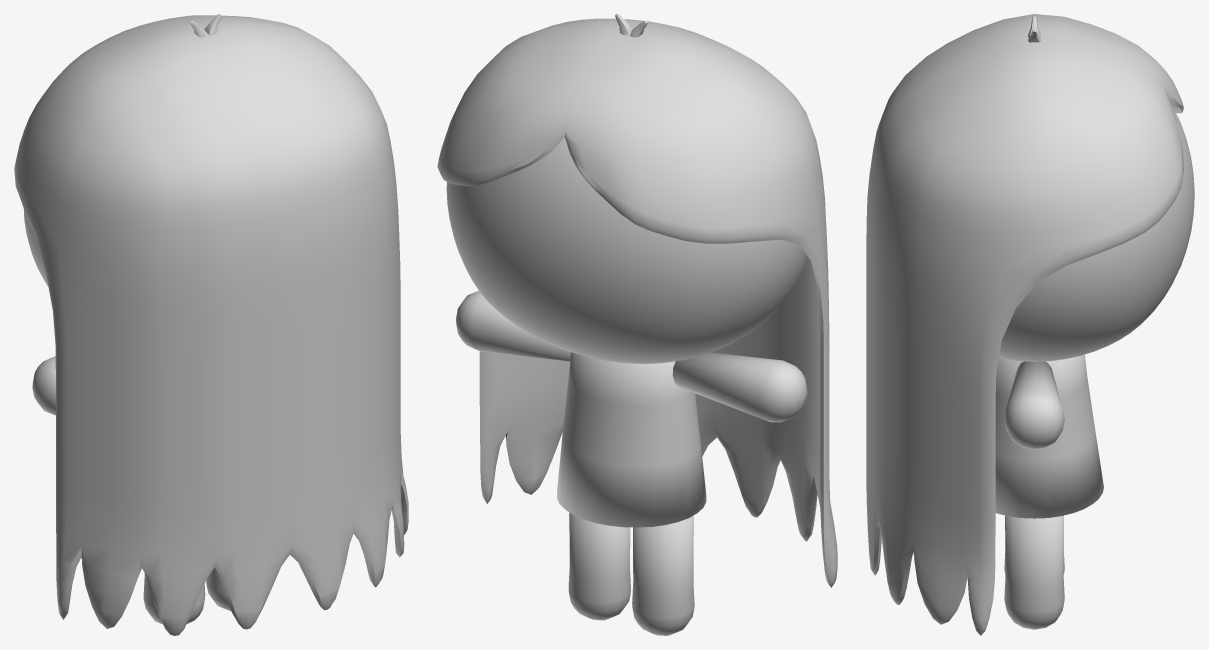
The model's file is Minji.fbx.
The picture shows the model from 3 angles, left to right: view 1: azimuth 30°, elevation 25°; view 2: azimuth 150°, elevation 25°; view 3: azimuth 270°, elevation 25°; orthographic projection. The views are drawn at different scales.
Visible parts, largest first — view 1: MinjiOutlinePelo, MinjiOutilineCuerpo; view 2: MinjiOutlinePelo, MinjiOutilineCuerpo; view 3: MinjiOutlinePelo, MinjiOutilineCuerpo.
Boxes of the visible parts, left/top/right/bottom form: MinjiOutlinePelo: left=14, top=14, right=408, bottom=635; MinjiOutilineCuerpo: left=23, top=208, right=230, bottom=624; MinjiOutlinePelo: left=437, top=14, right=837, bottom=587; MinjiOutilineCuerpo: left=446, top=137, right=807, bottom=635; MinjiOutlinePelo: left=866, top=14, right=1183, bottom=635; MinjiOutilineCuerpo: left=995, top=104, right=1194, bottom=629.
Bounding box in the file's own units: 201 × 332 × 168.
5 materials, 4 textured.
